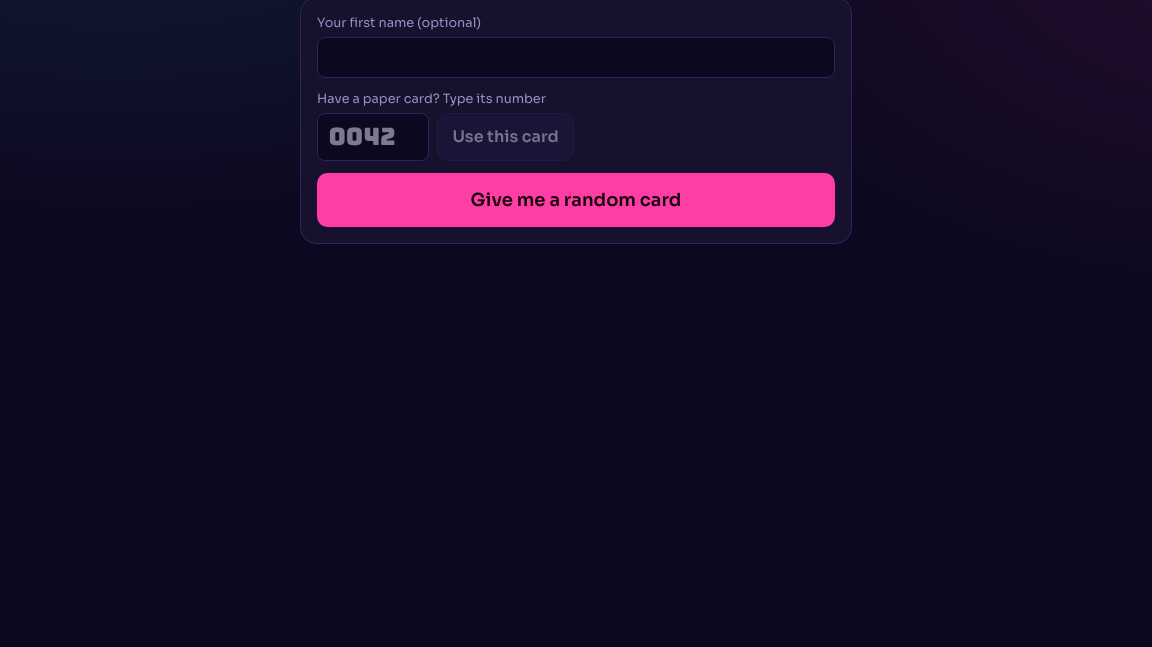
Scenario: BINGO sends a claim for the shown card
This screenshot has width=1152, height=647.
In the field labelled "Your first name (optional)": [576, 57] box [317,37,835,78], type "Sam"
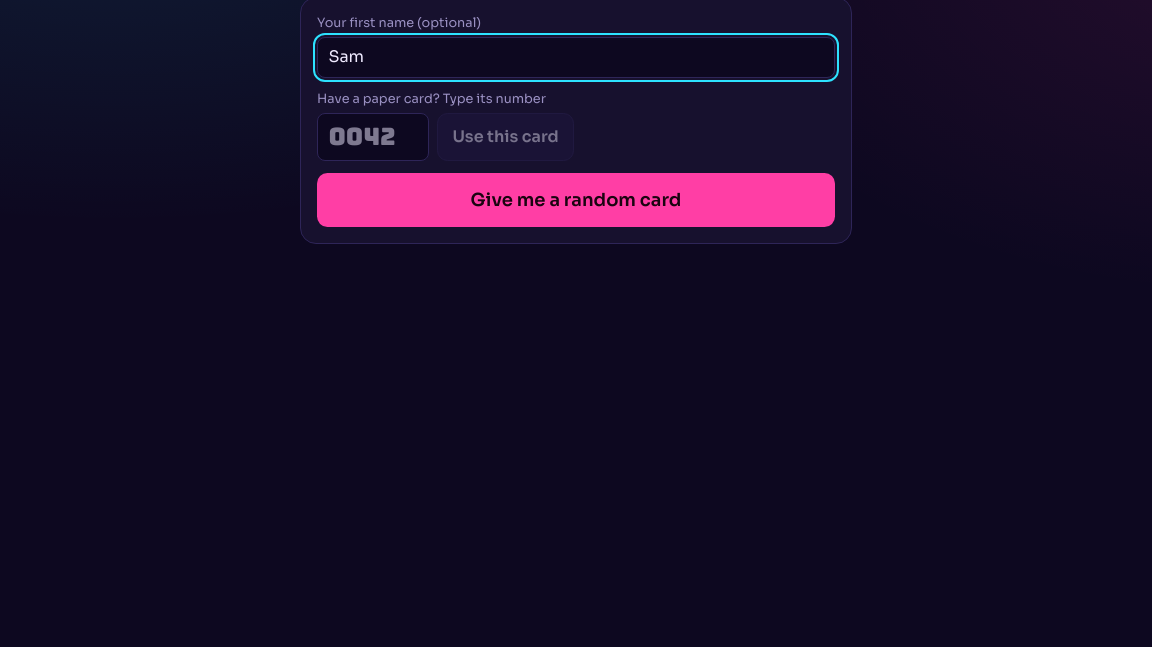
Click the button "Give me a random card": [576, 200] box [317,173,835,227]
(page scrolled)
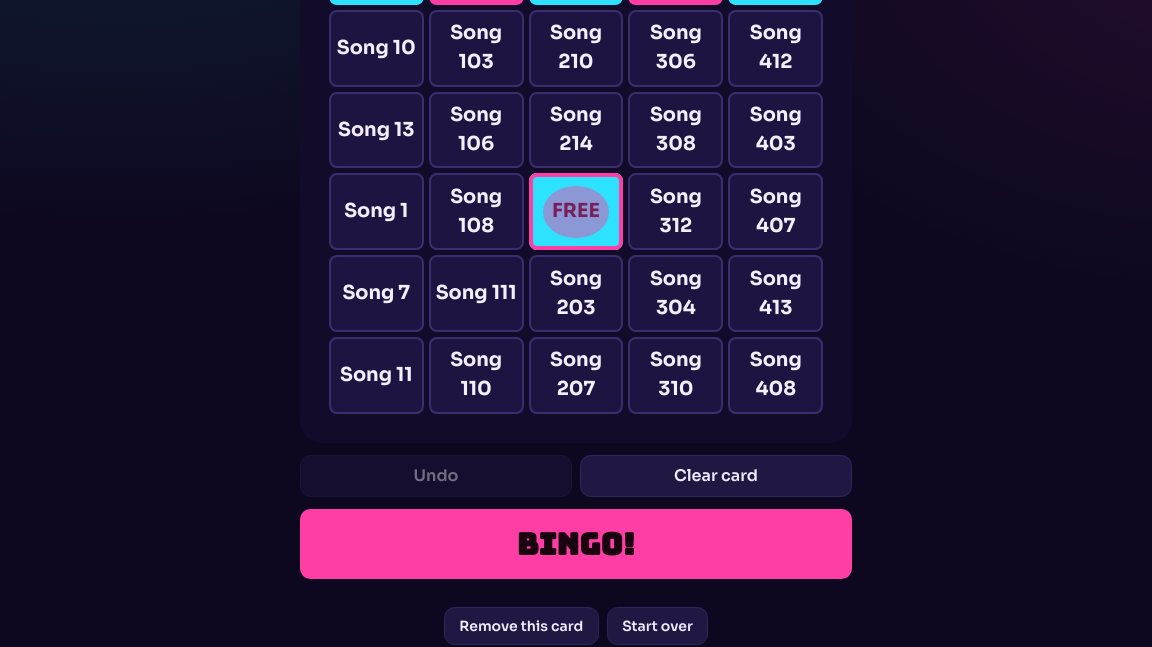
Click the button "BINGO!": [576, 544] box [300,509,852,579]
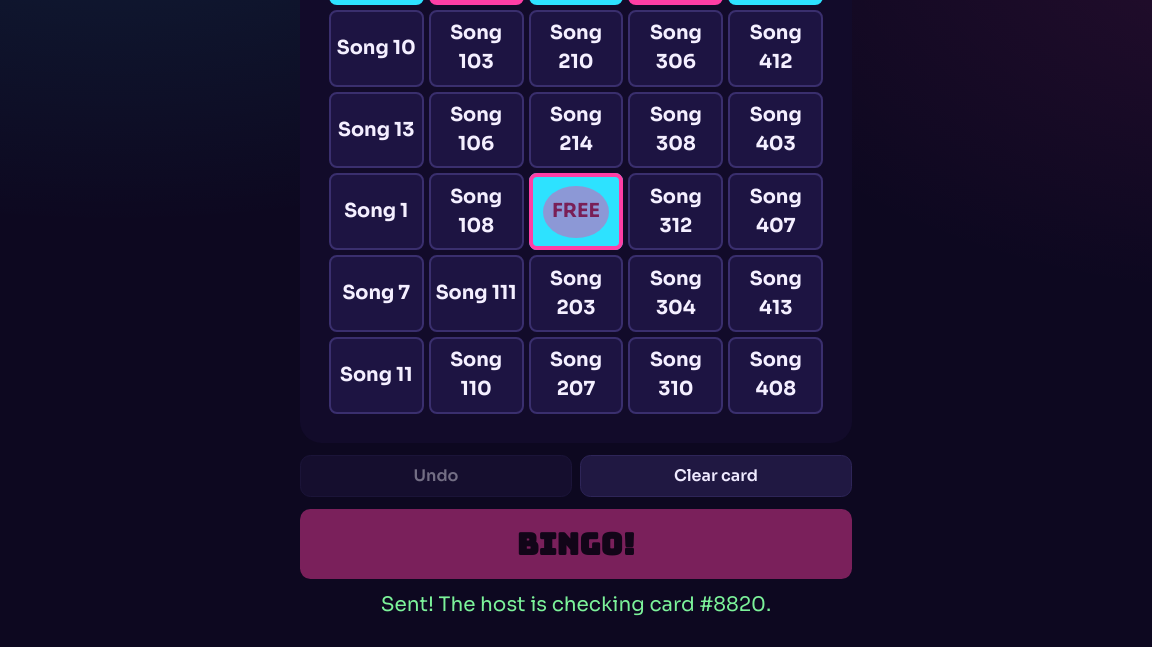
Result: the text "Sent! The host is checking card #8820." is shown at [381,592,771,617]
